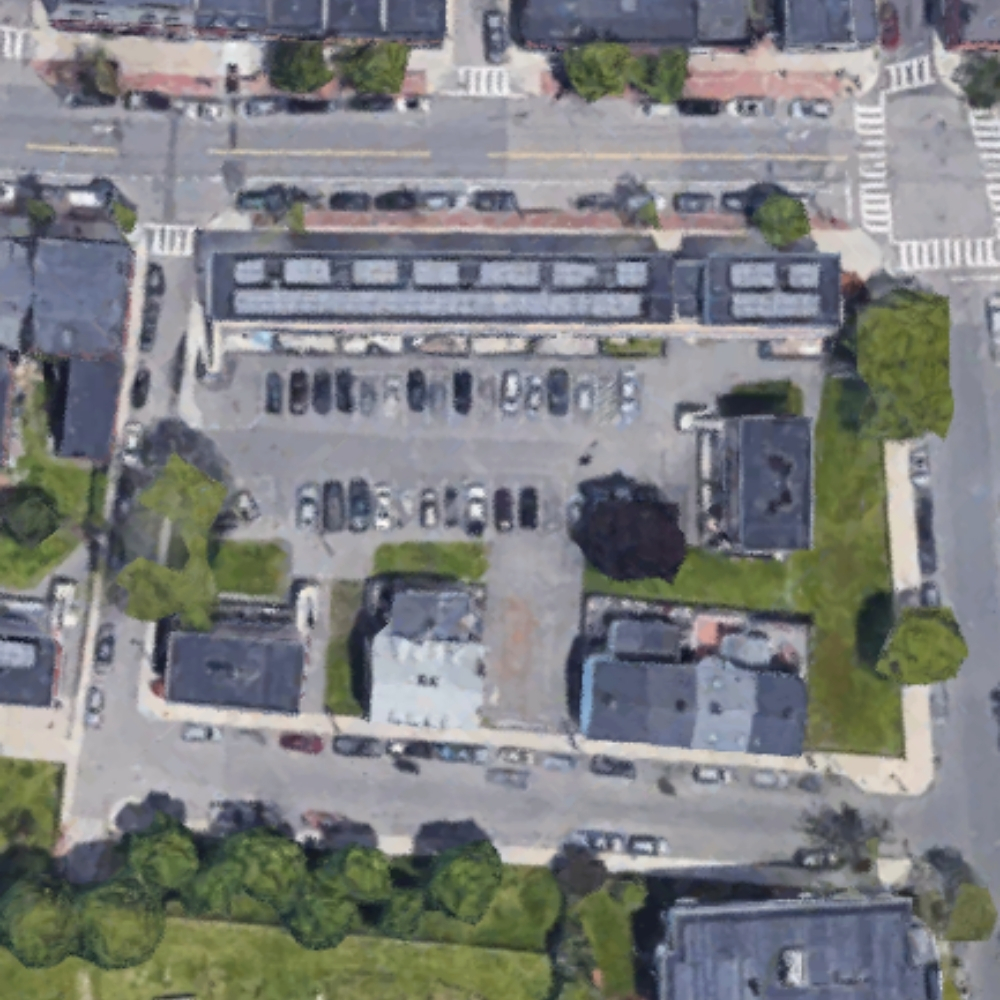parking: (200, 360, 700, 550)
